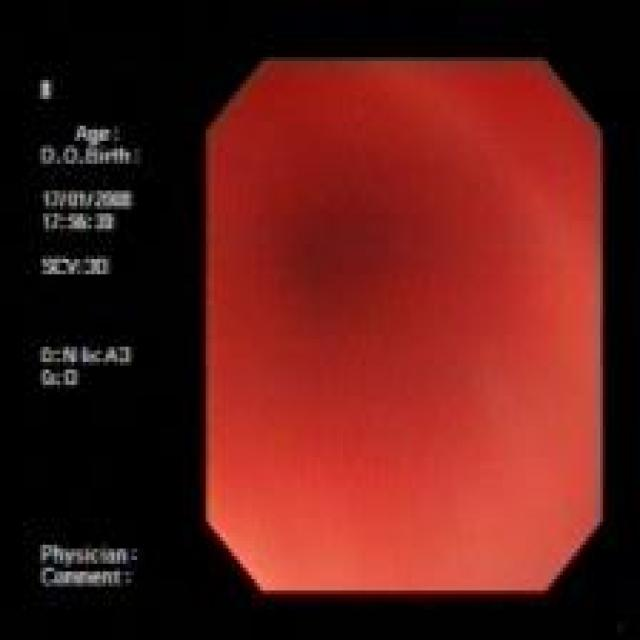blur: (208, 60, 602, 592)
color misalignment: (207, 59, 602, 592), (35, 78, 142, 591)
